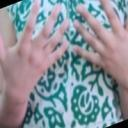hand: (0, 0, 68, 98), (73, 0, 128, 90)
